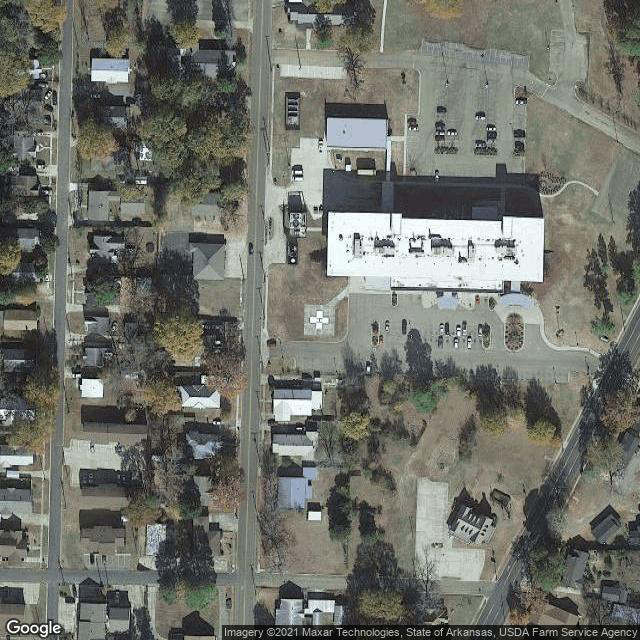Helipad: (304, 305, 334, 334)
